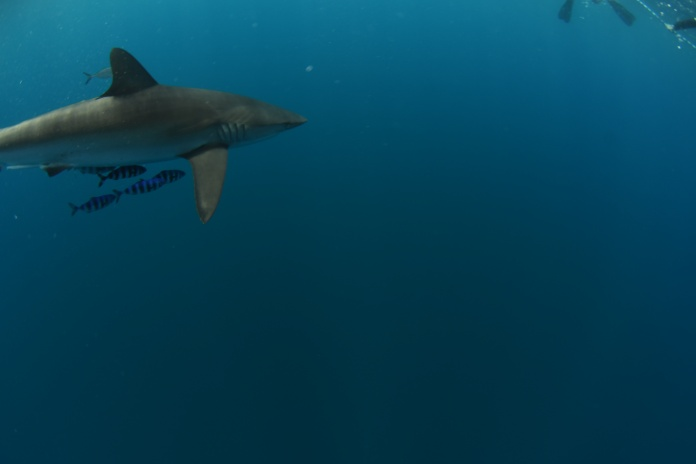Sedoso: (1, 43, 321, 239)
